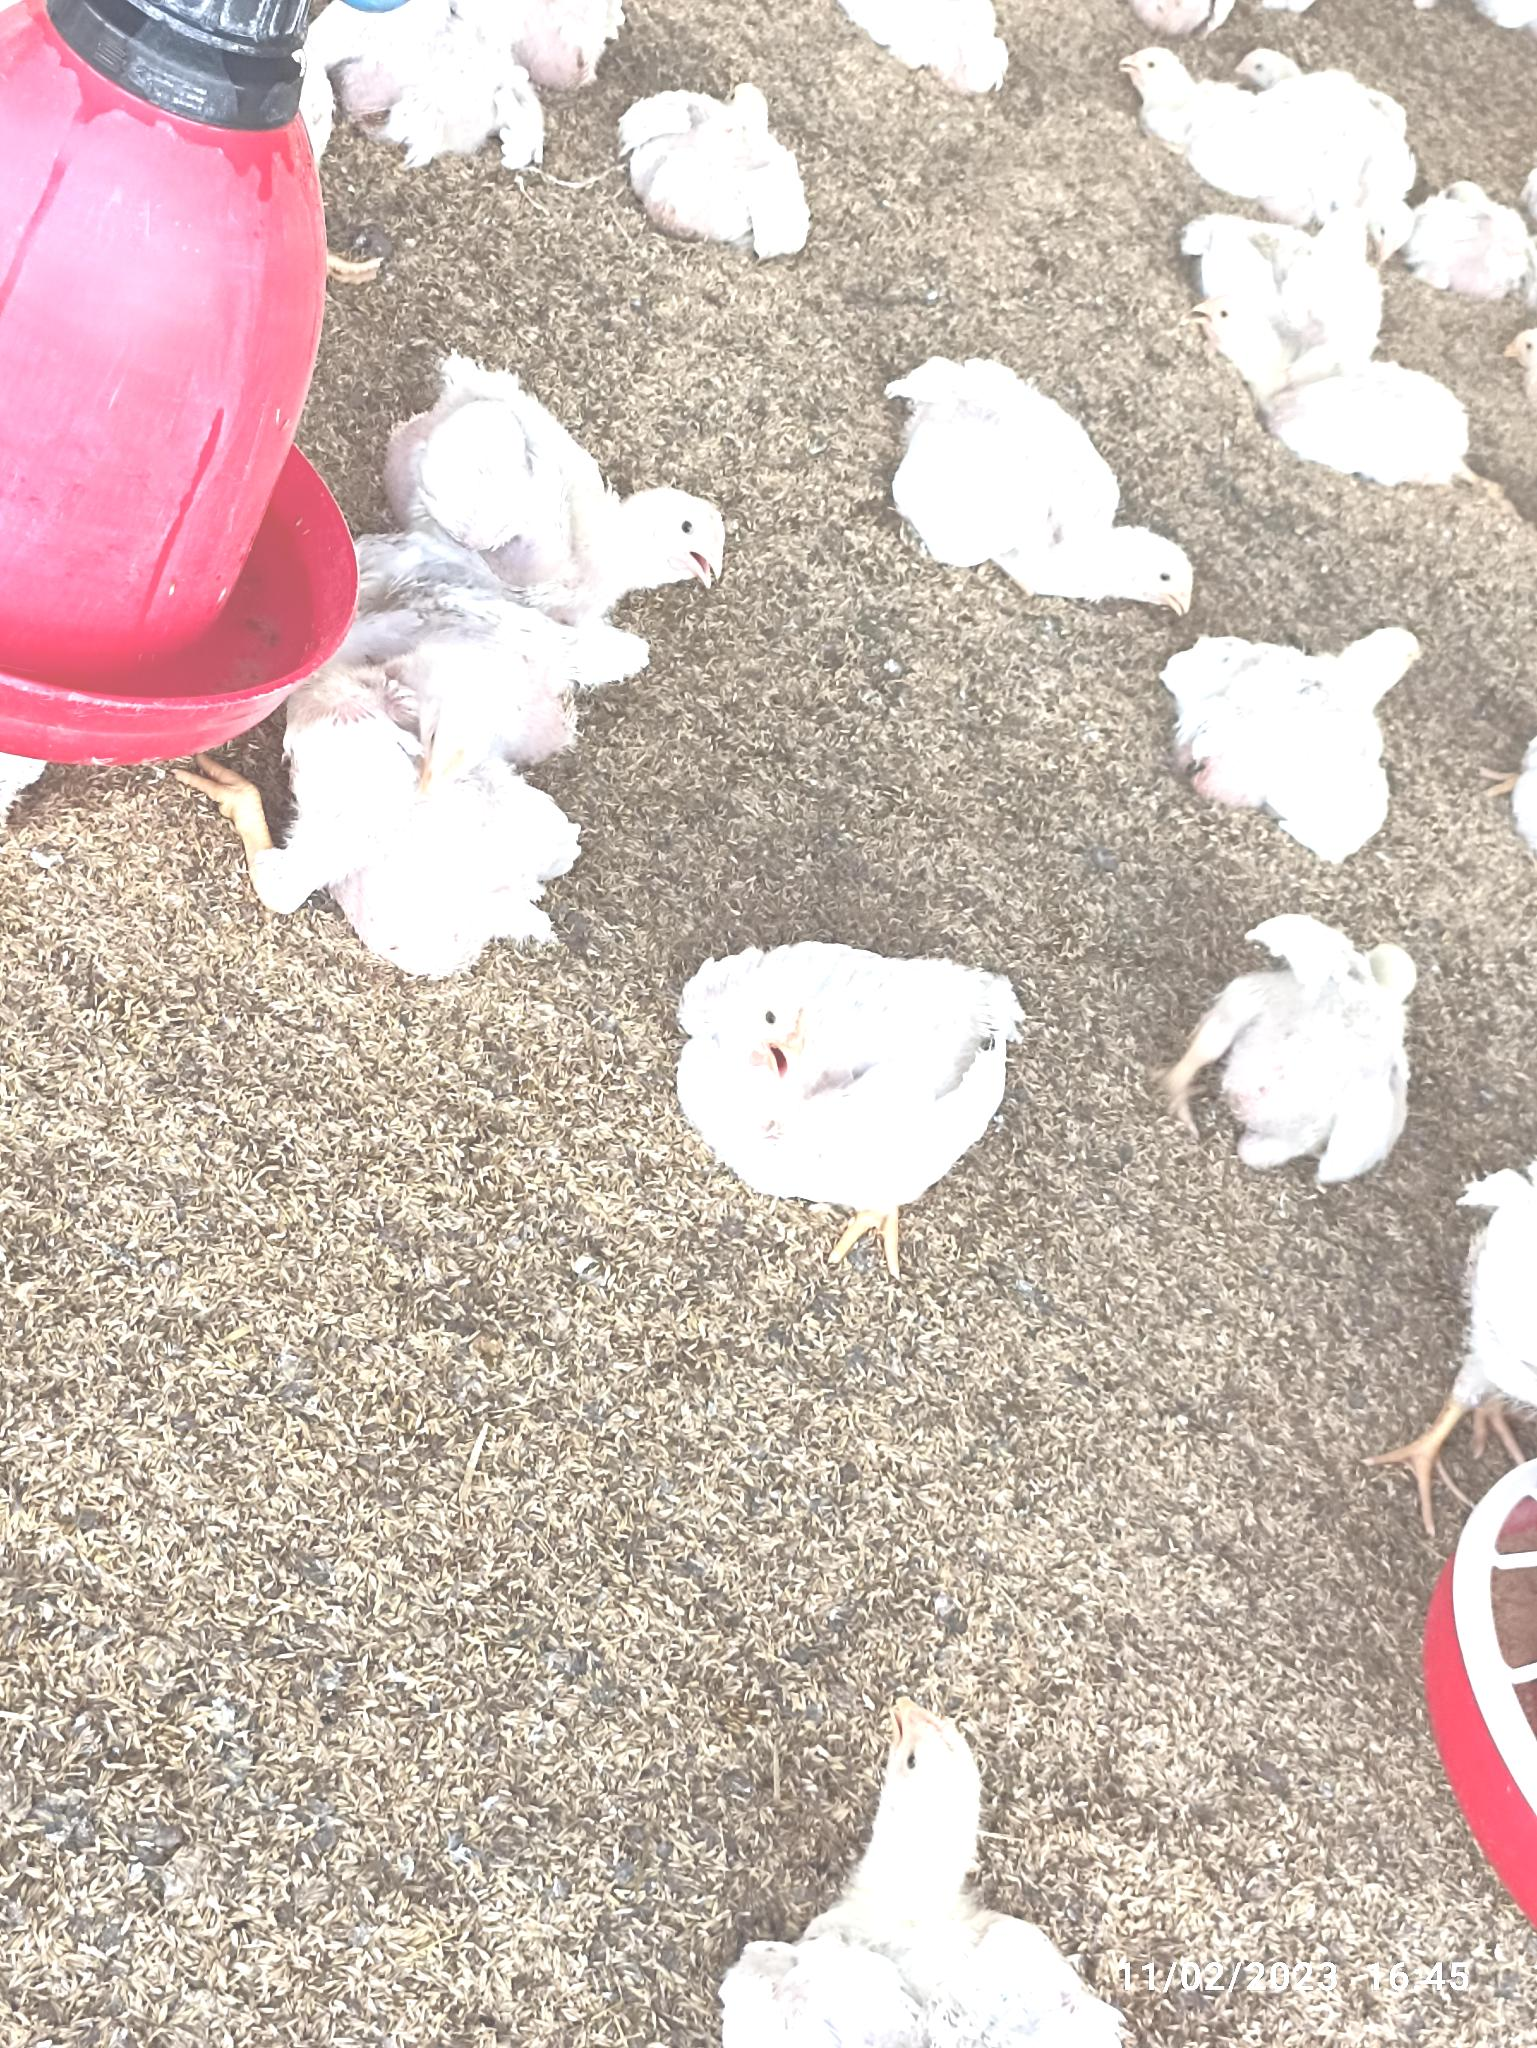Pollos: (744, 1699, 1119, 2048), (885, 344, 1203, 613), (680, 947, 1025, 1188), (300, 647, 559, 968), (417, 357, 731, 604), (1187, 918, 1434, 1175), (1204, 276, 1477, 489), (1171, 620, 1434, 839), (1120, 40, 1330, 190), (628, 86, 802, 237)
